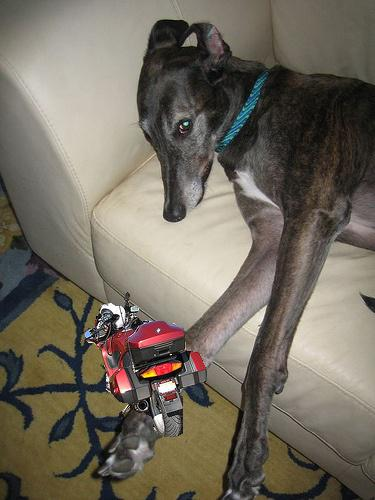tampered: (84, 293, 207, 437)
